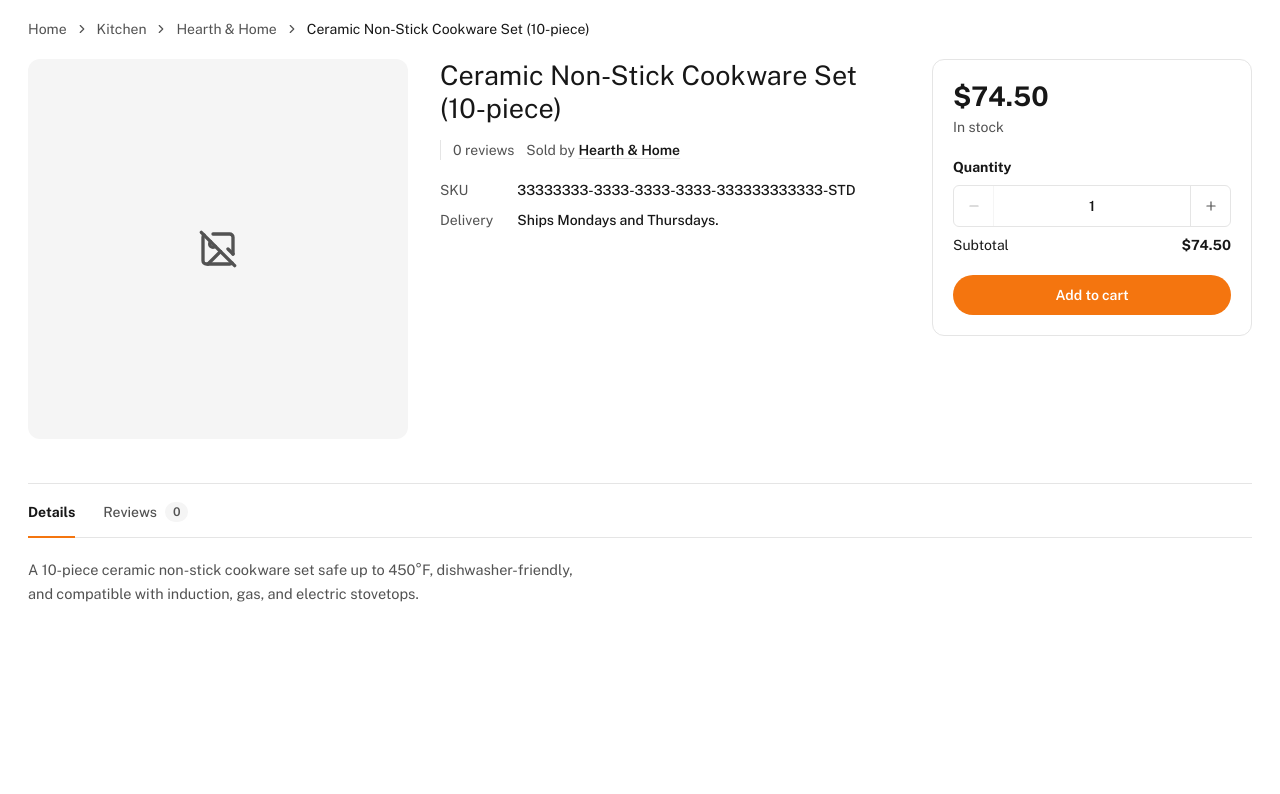
review flow › surfaces a refusal from the server
This screenshot has width=1280, height=794.
Click the tab "Reviews 0".
click(146, 513)  # box [103,488,188,538]
(page scrolled)
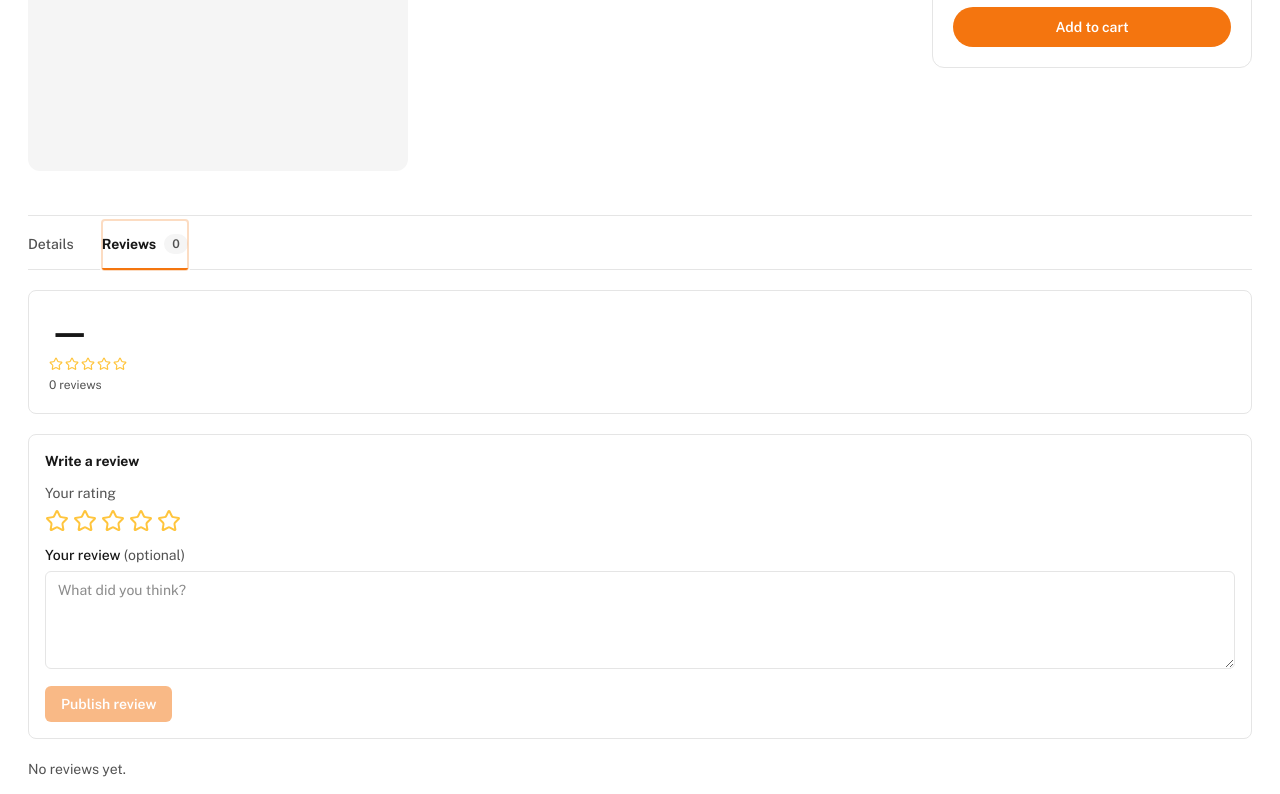
Click the radio button named "5 stars".
click(169, 521)  # box [157,509,181,533]
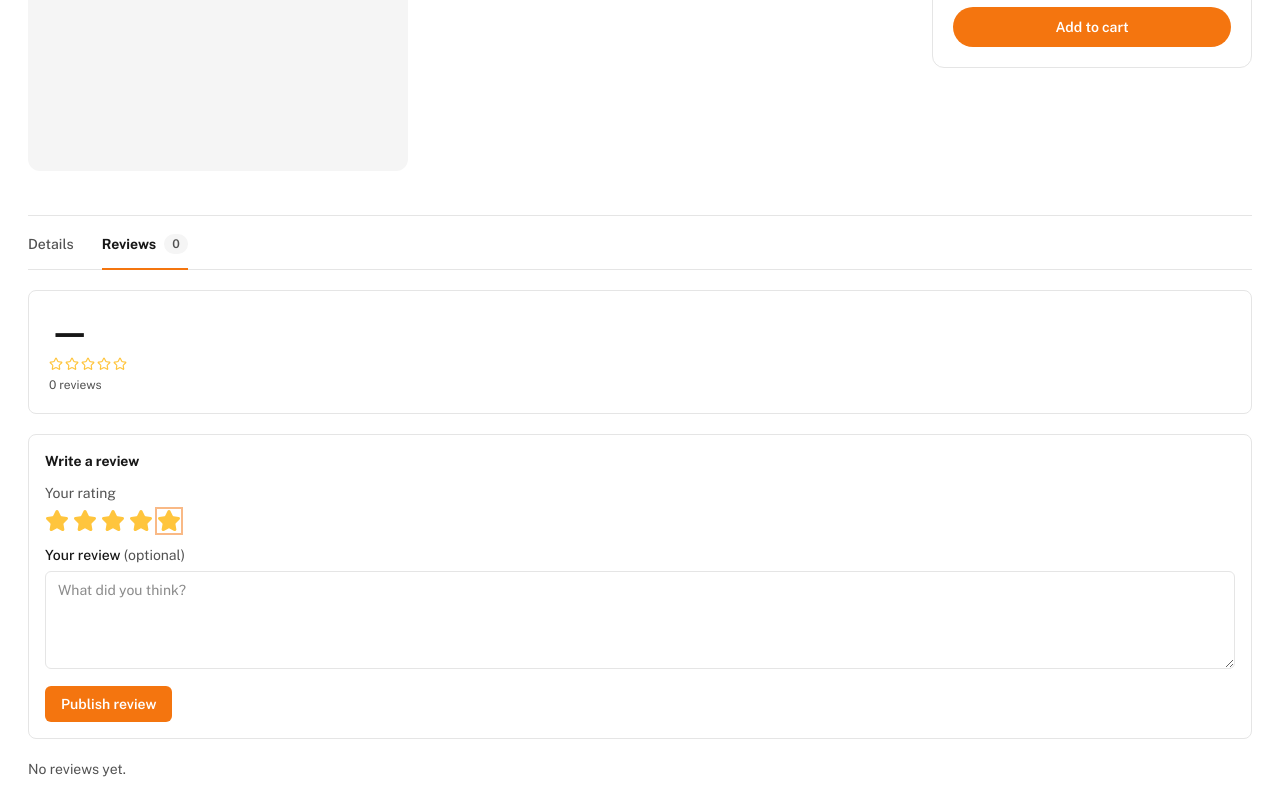
Click the button "Publish review".
click(109, 704)  # box [45,686,172,722]
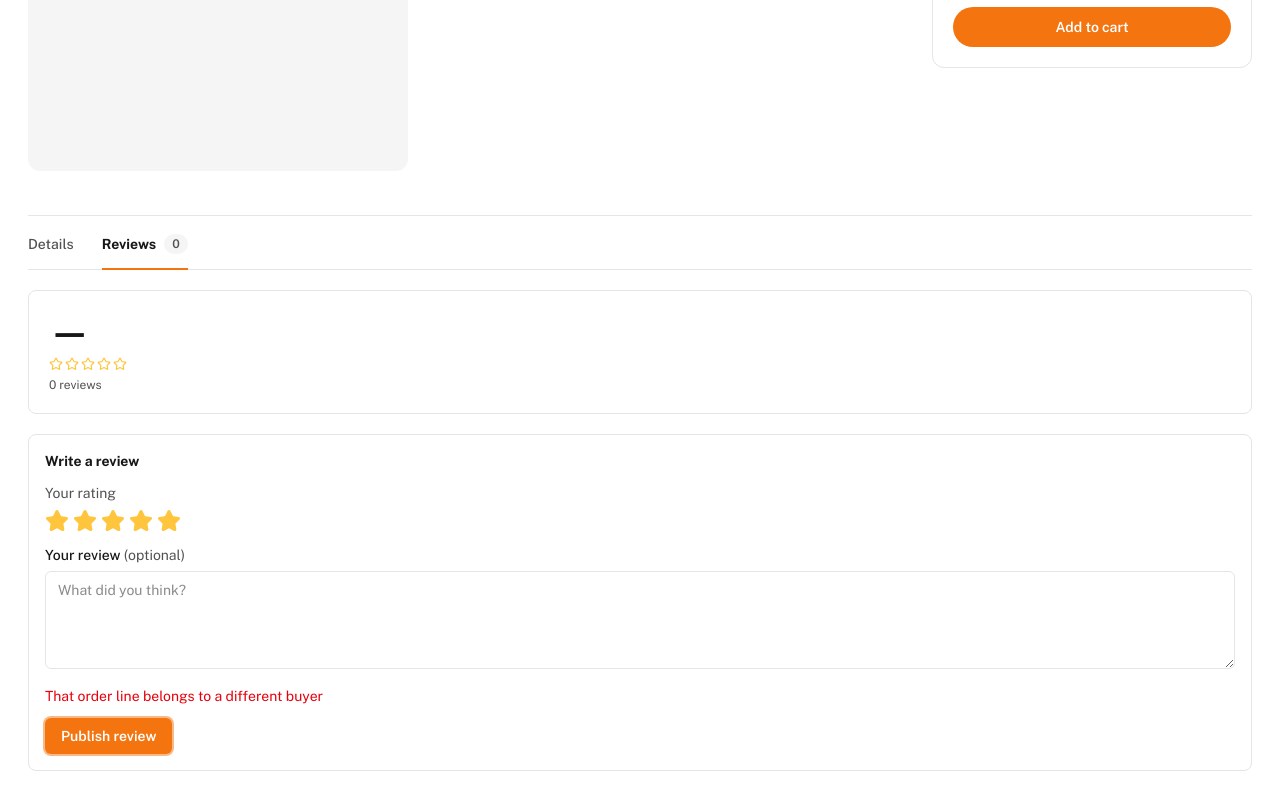
Expected: the message reads "That order line belongs to a different buyer", [45,688,323,704]
